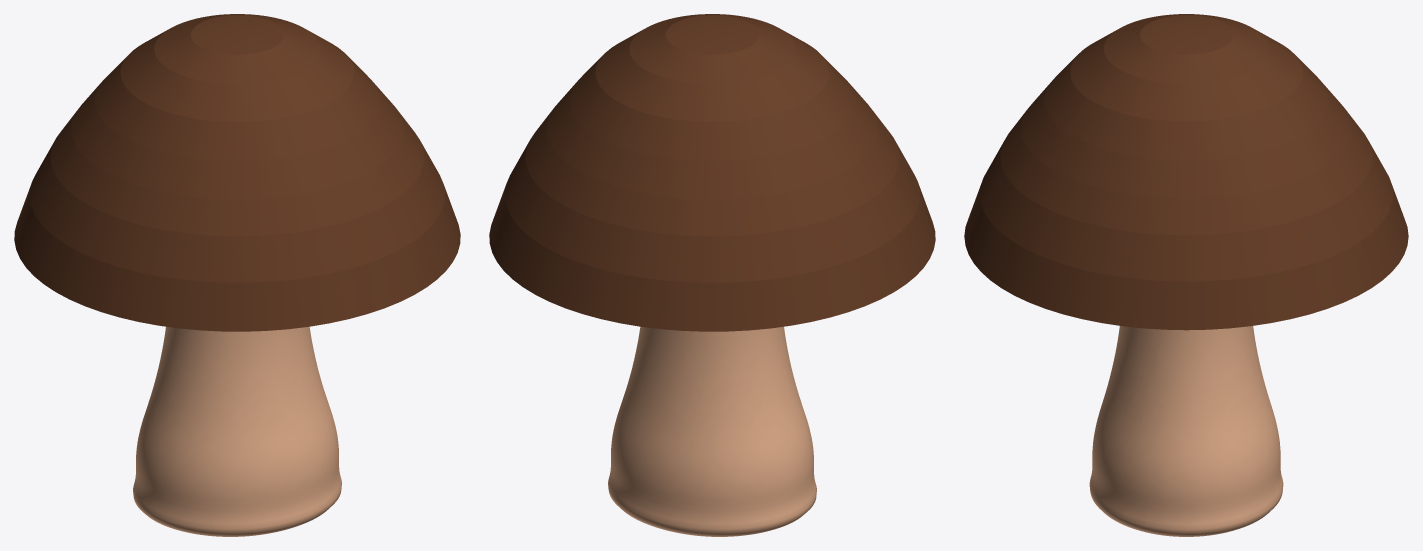
The picture shows the model from 3 angles, left to right: view 1: azimuth 30°, elevation 25°; view 2: azimuth 150°, elevation 25°; view 3: azimuth 270°, elevation 25°; orthographic projection.
Visible parts, largest first — view 1: cap, stem; view 2: cap, stem; view 3: cap, stem.
Part boxes in pixels (<box>): cap: <box>14,14,460,331</box>; stem: <box>133,326,341,536</box>; cap: <box>489,14,935,331</box>; stem: <box>608,326,816,536</box>; cap: <box>964,14,1408,330</box>; stem: <box>1089,326,1283,536</box>.
Size of the model in its own units: 0.0859 by 0.1 by 0.0859.
